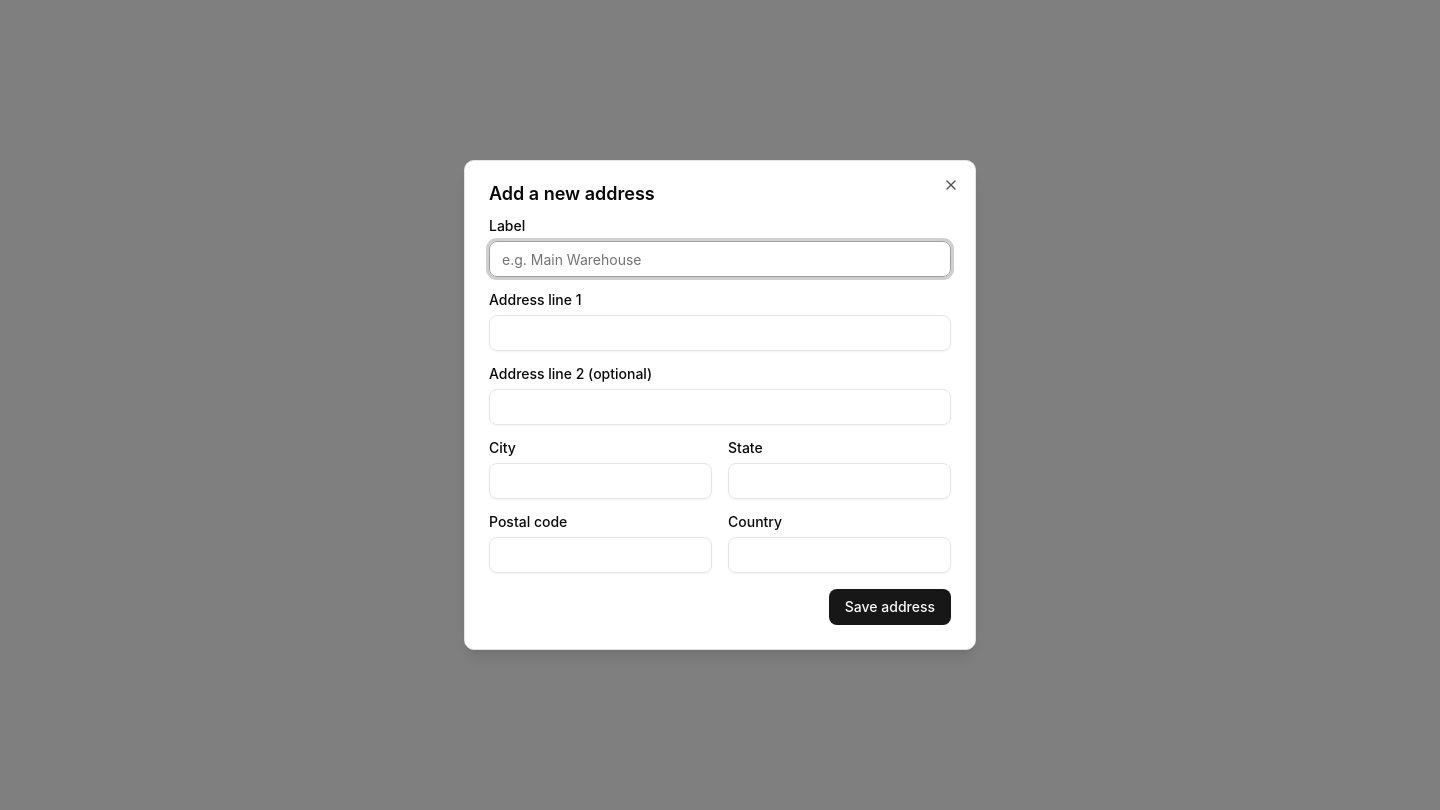
Test: AddLocationDialog › shows an error toast and keeps the dialog open when saving fails
Type "Main Warehouse" into the field labelled "Label".
click(720, 259); type("Main Warehouse")  # box [489,241,951,277]
Type "1 Main St" into the field labelled "Address line 1".
click(720, 333); type("1 Main St")  # box [489,315,951,351]
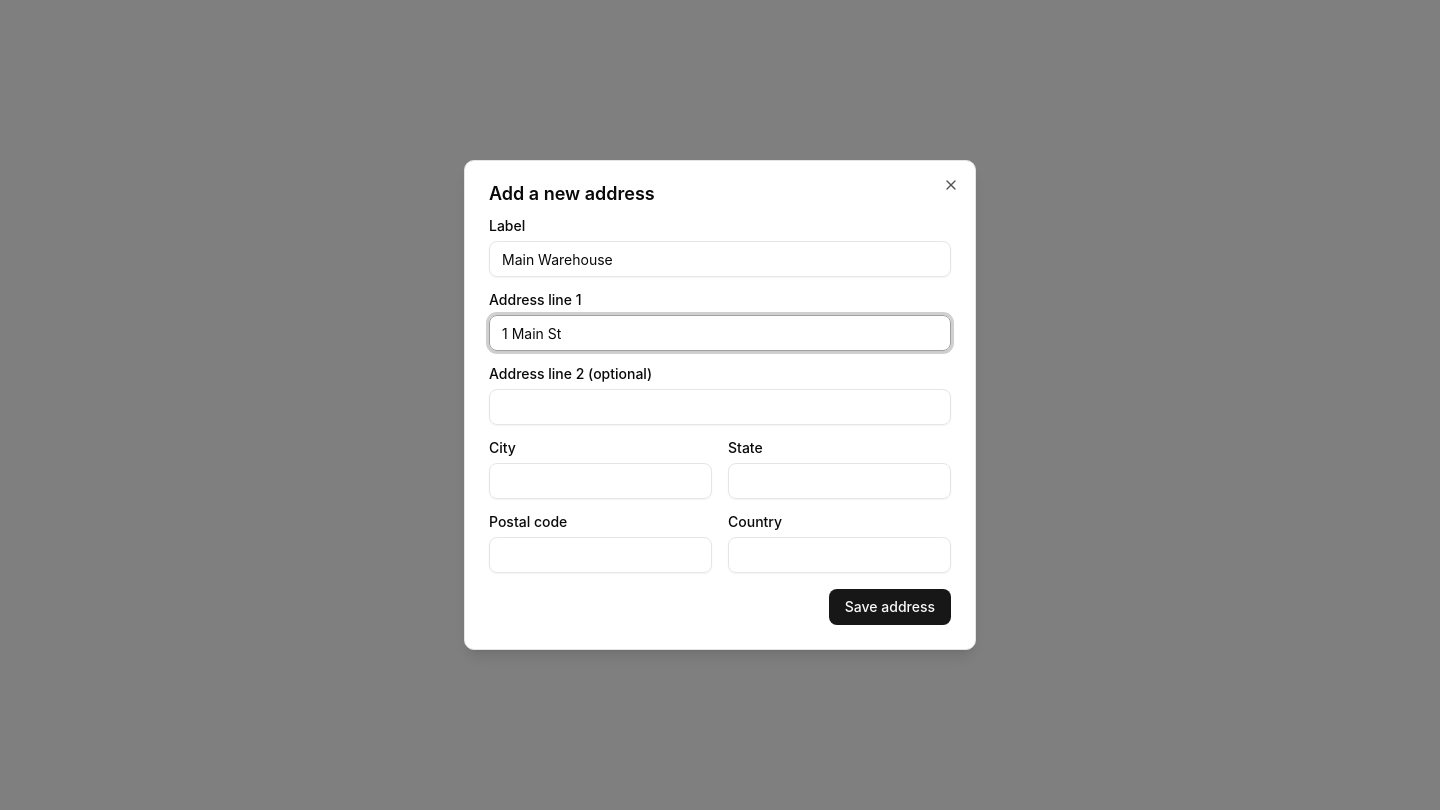
Type "Springfield" into the field labelled "City".
click(600, 481); type("Springfield")  # box [489,463,712,499]
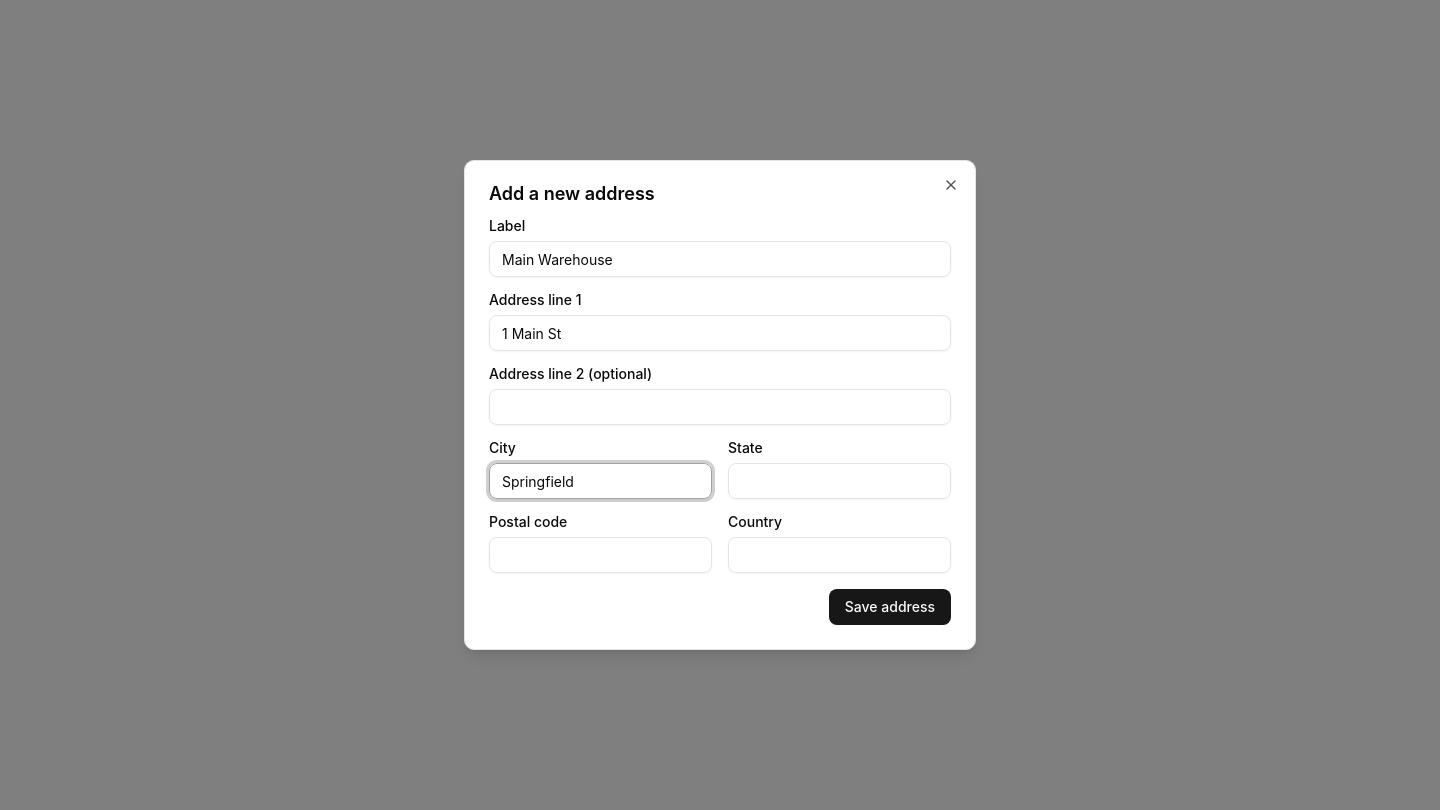
Type "IL" into the field labelled "State".
click(840, 481); type("IL")  # box [728,463,951,499]
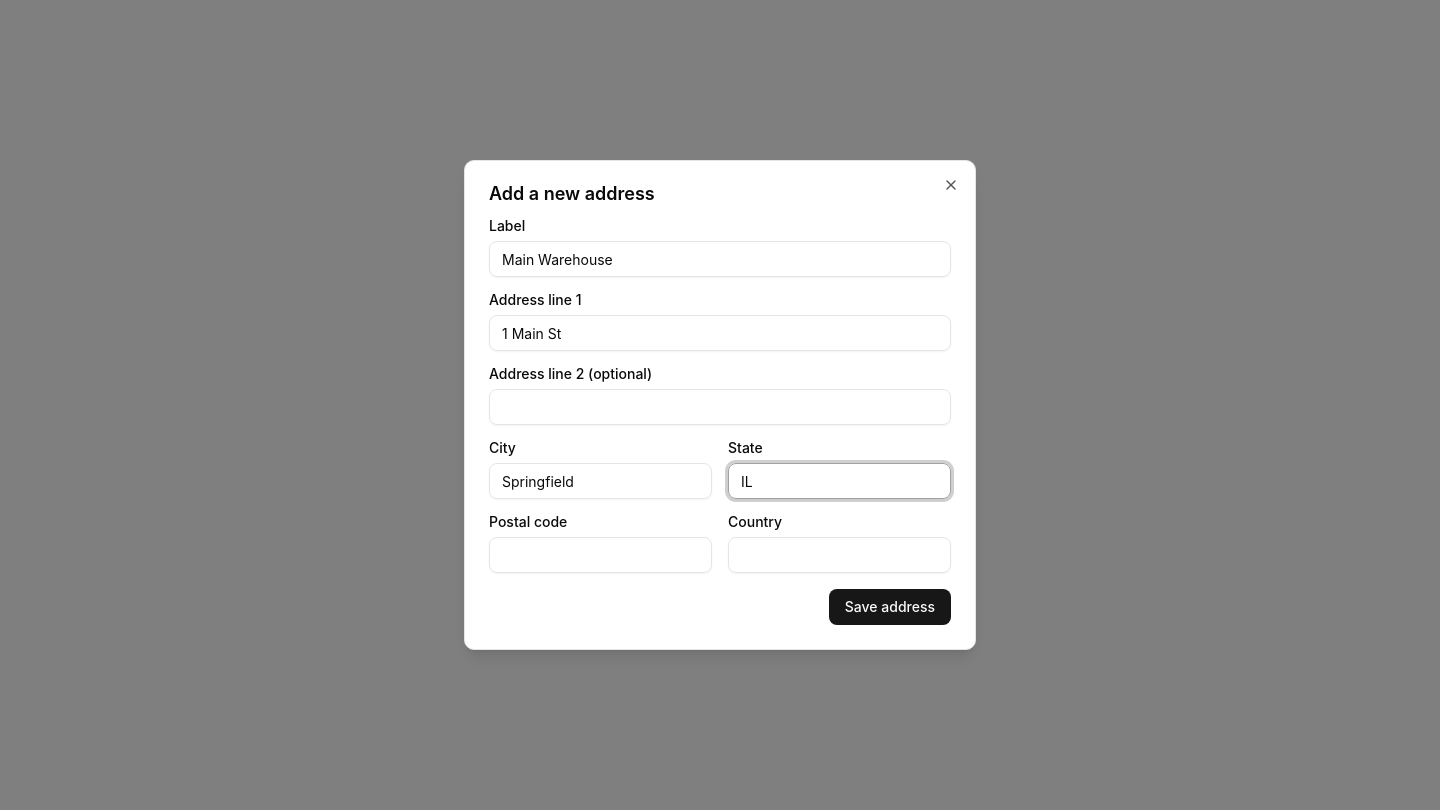
Type "62701" into the field labelled "Postal code".
click(600, 555); type("62701")  # box [489,537,712,573]
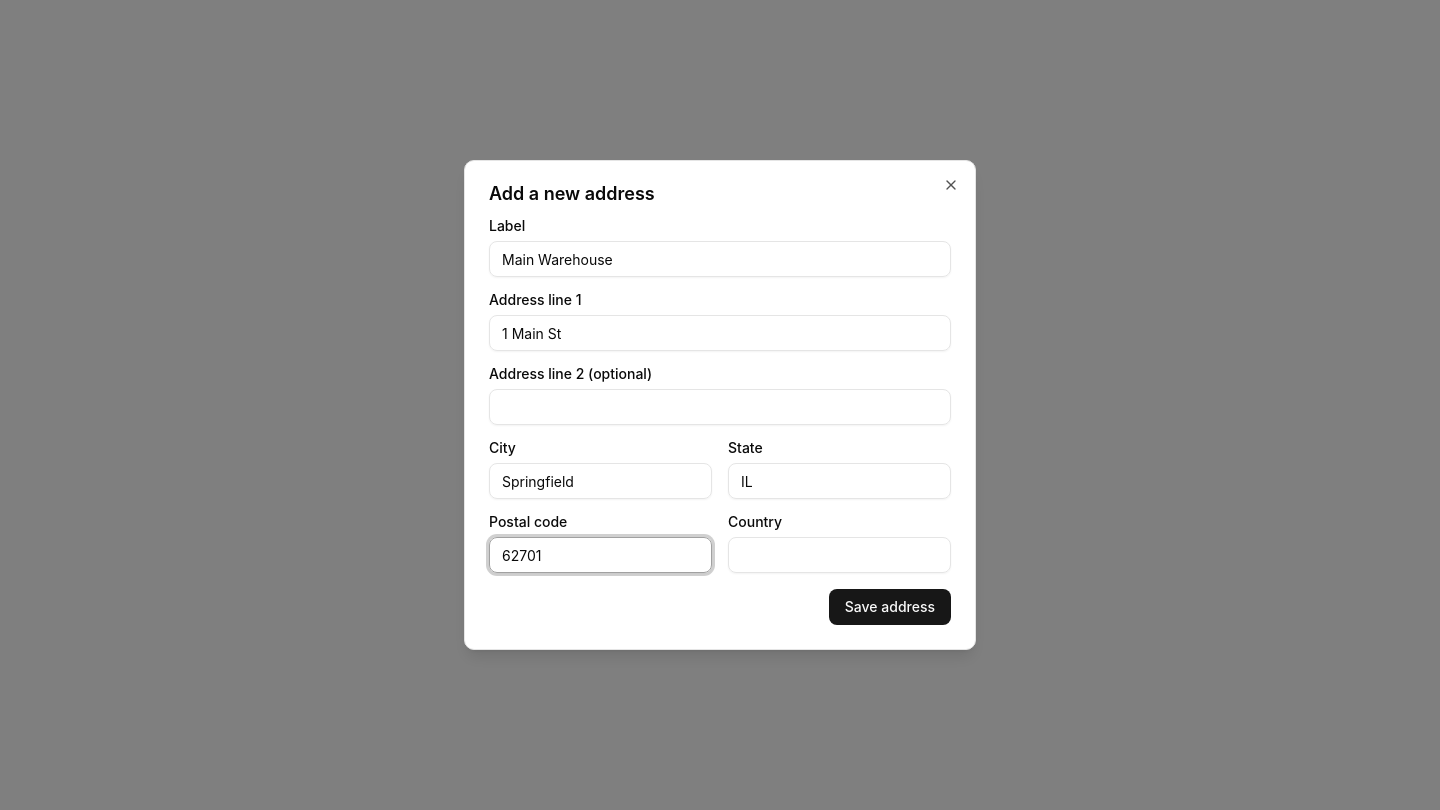
Type "US" into the field labelled "Country".
click(840, 555); type("US")  # box [728,537,951,573]
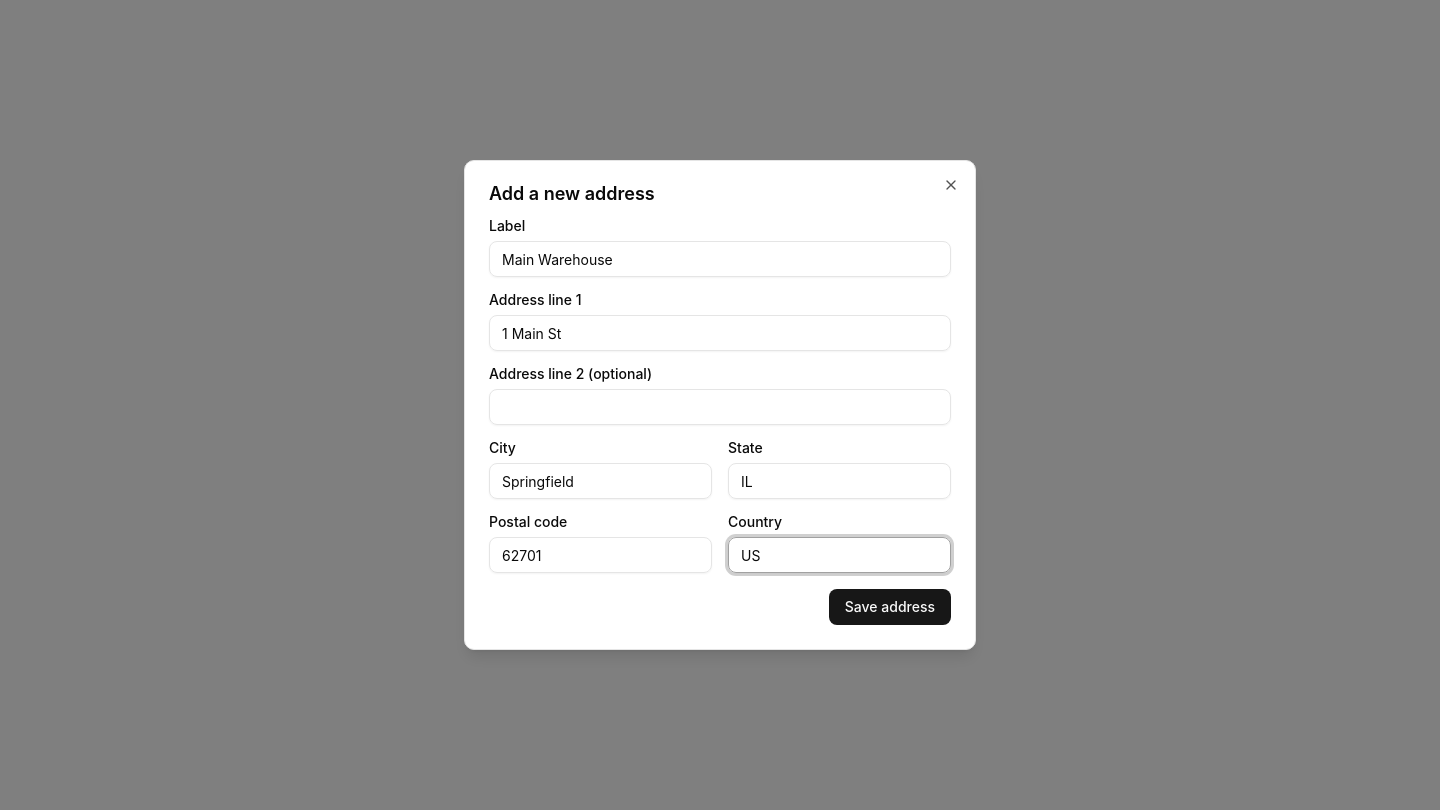
Click the button "Save address".
click(890, 607)  # box [829,589,951,625]
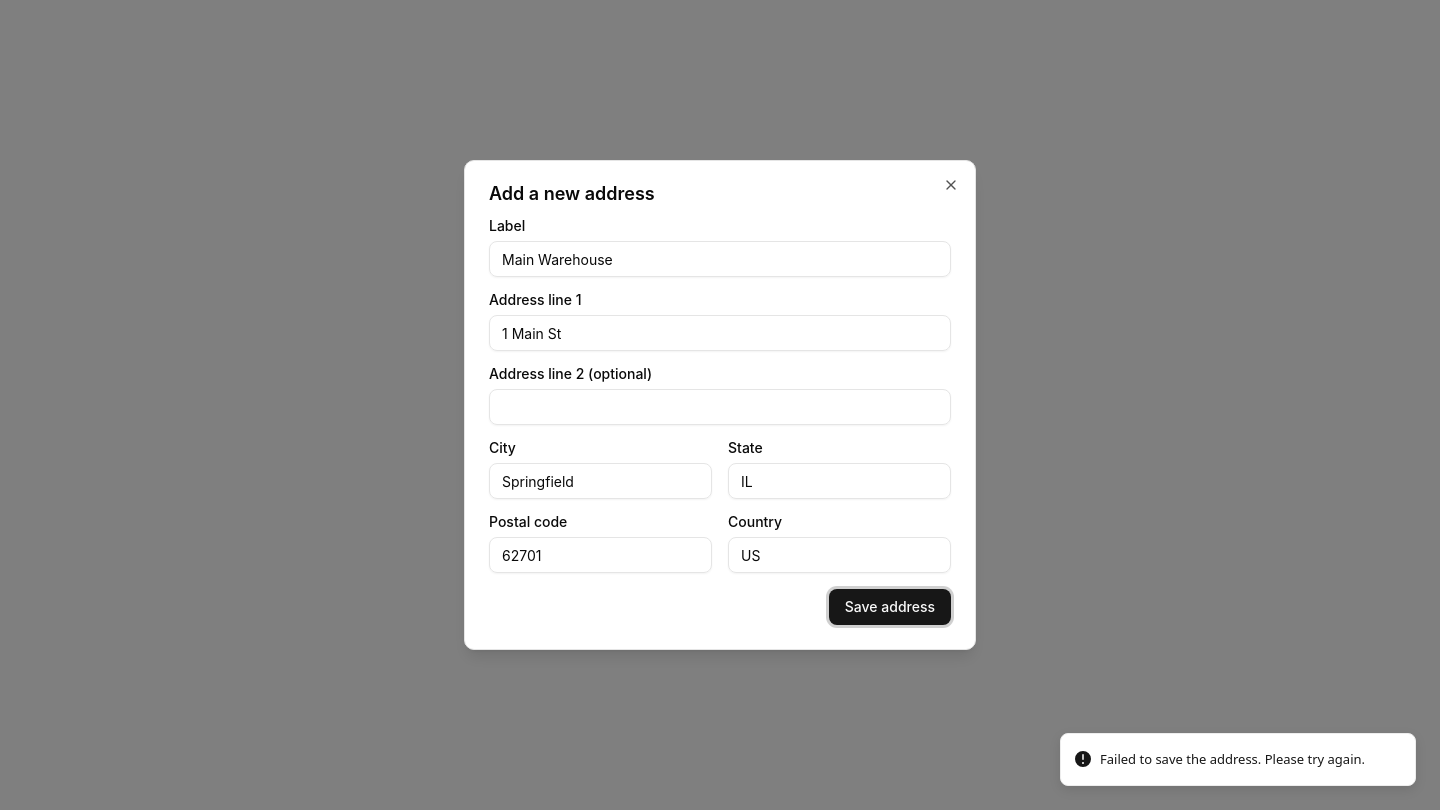
Expected: the text "Failed to save the address. Please try again." is shown, [1100,750,1365,769]
